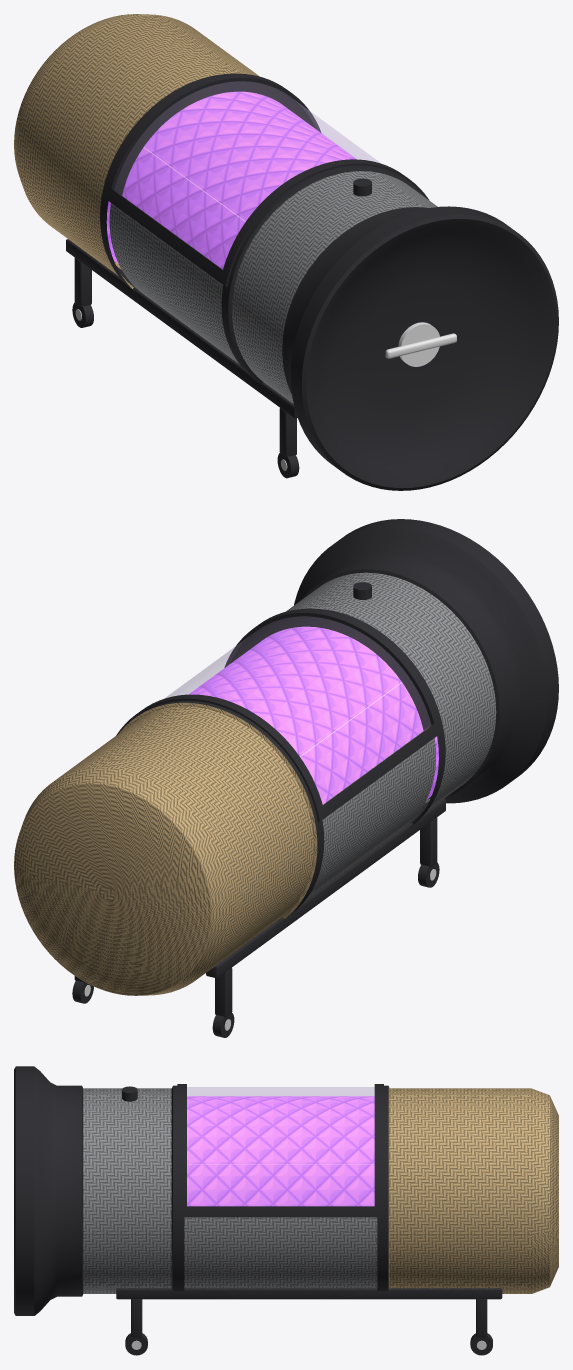
File: solo-lounge-v3.glb
The picture shows the model from 3 angles, top to bottom: view 1: azimuth 30°, elevation 25°; view 2: azimuth 150°, elevation 25°; view 3: azimuth 270°, elevation 25°; orthographic projection. The views are drawn at different scales.
Parts seen in each view (by area): view 1: govde_on, govde_arka, kanopi_cam, ic_kaplama, govde_orta, kanopi_uc.001, ray, kanopi_uc, kanopi_ray.001, kapak_gobek, ayak, ayak.001 (+1 smaller); view 2: govde_arka, govde_on, kanopi_cam, ic_kaplama, govde_orta, kanopi_uc, ray, kanopi_uc.001, kanopi_ray.001, ayak.001, ayak; view 3: govde_arka, govde_on, kanopi_cam, ic_kaplama, govde_orta, ray.001, kanopi_ray, kanopi_uc, kanopi_uc.001, ayak.003, ayak.002.
Part boxes in pixels (<box>): govde_on: <box>221,165,558,490</box>; govde_arka: <box>14,14,259,293</box>; kanopi_cam: <box>114,82,380,269</box>; ic_kaplama: <box>106,91,356,269</box>; govde_orta: <box>109,191,239,364</box>; kanopi_uc.001: <box>103,73,321,199</box>; ray: <box>66,239,297,418</box>; kanopi_uc: <box>221,159,429,286</box>; kanopi_ray.001: <box>107,187,224,283</box>; kapak_gobek: <box>398,322,439,366</box>; ayak: <box>279,408,296,457</box>; ayak.001: <box>74,258,91,307</box>; govde_arka: <box>14,700,324,995</box>; govde_on: <box>286,519,558,827</box>; kanopi_cam: <box>164,617,430,804</box>; ic_kaplama: <box>188,626,438,804</box>; govde_orta: <box>306,726,435,899</box>; kanopi_uc: <box>224,608,442,734</box>; ray: <box>206,799,445,978</box>; kanopi_uc.001: <box>116,694,323,821</box>; kanopi_ray.001: <box>321,723,438,818</box>; ayak.001: <box>215,967,232,1016</box>; ayak: <box>420,817,437,866</box>; govde_arka: <box>377,1085,558,1293</box>; govde_on: <box>14,1066,184,1315</box>; kanopi_cam: <box>187,1087,374,1205</box>; ic_kaplama: <box>187,1096,374,1206</box>; govde_orta: <box>184,1217,377,1288</box>; ray.001: <box>116,1288,502,1299</box>; kanopi_ray: <box>184,1206,377,1217</box>; kanopi_uc: <box>177,1084,186,1217</box>; kanopi_uc.001: <box>374,1084,383,1217</box>; ayak.003: <box>476,1299,487,1337</box>; ayak.002: <box>131,1299,142,1337</box>.
Bounding box in the file's own units: 1.1 × 1.2 × 2.4.
Materials: 8 (4 with a texture image).
